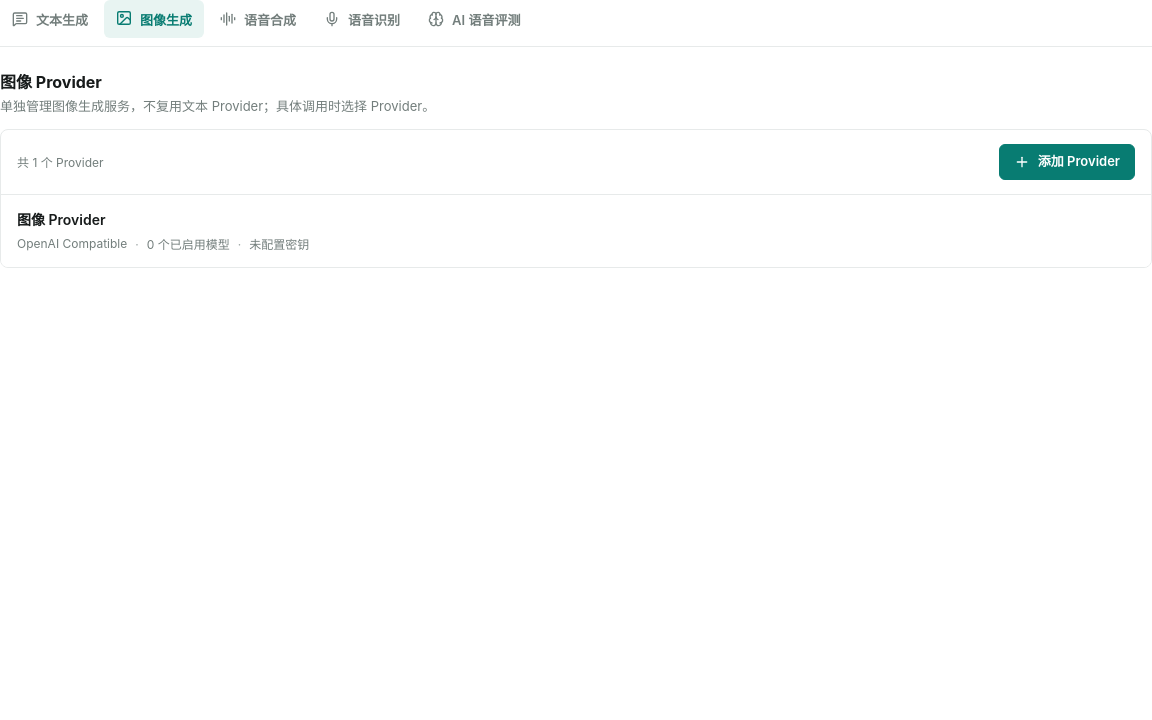
Scenario: AIRouterSettingsPage › keeps image save failures in the editor feedback area
Click the button "图像 Provider OpenAI Compatible 0 个已启用模型 未配置密钥" at (61, 220), box [1,195,1151,267]
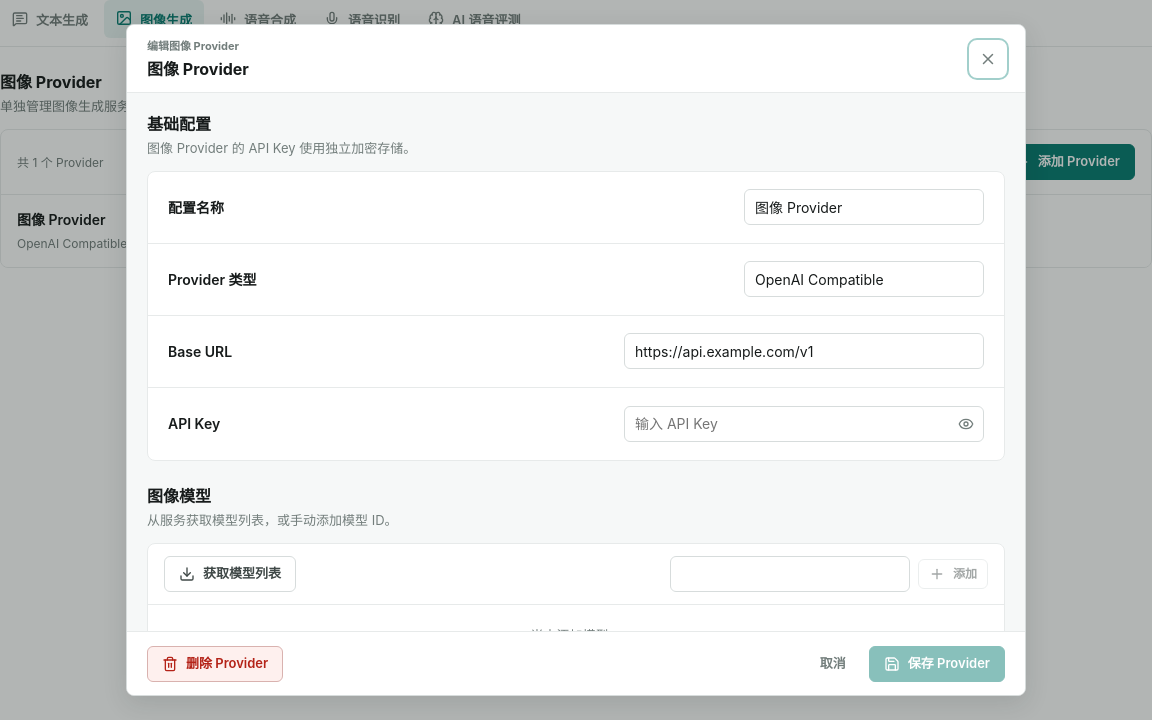
Replace the text in the field named "图像配置名称" with "更新后的图像 Provider" at (864, 207), box [744,189,984,225]
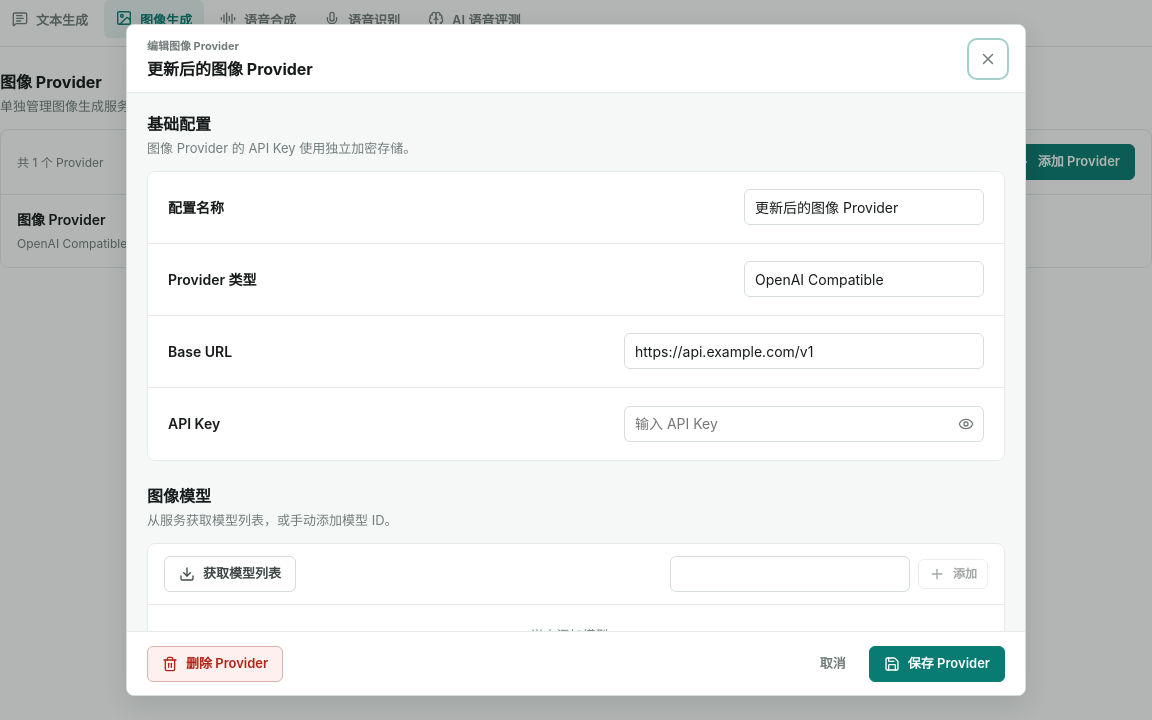
Click the button "保存 Provider" at (937, 664), box [869,646,1005,682]
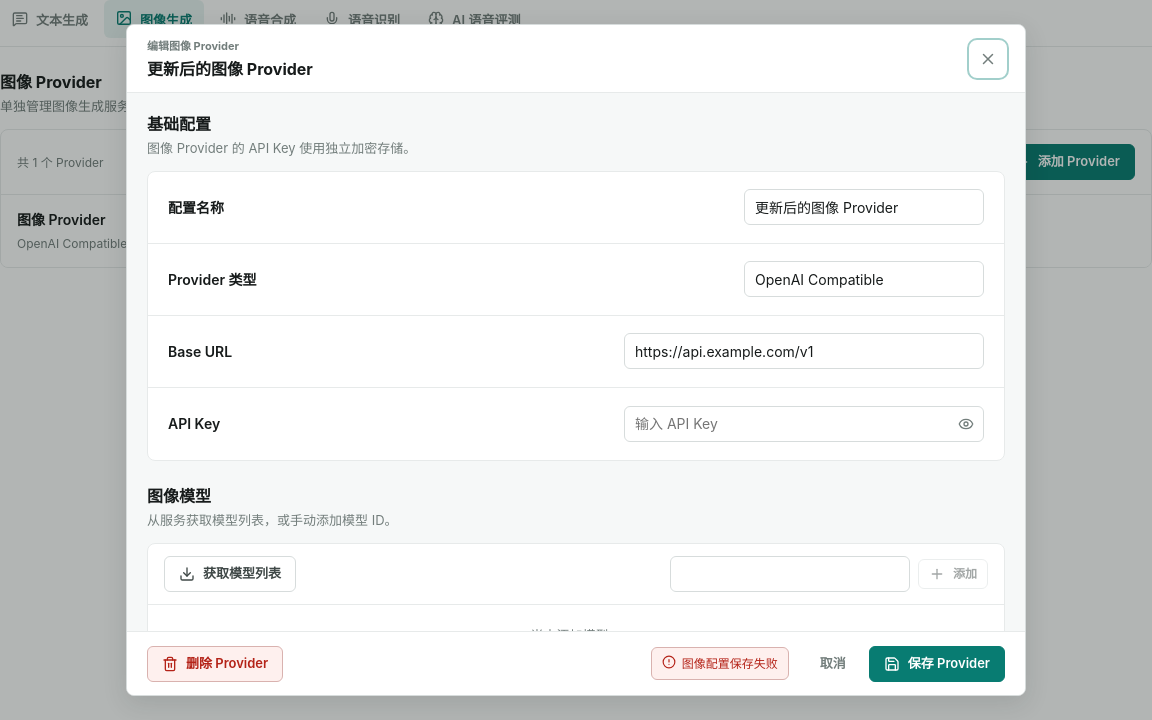
Result: the dialog "图像 Provider" is shown
Result: the message reads "图像配置保存失败" at [682,656,778,671]
